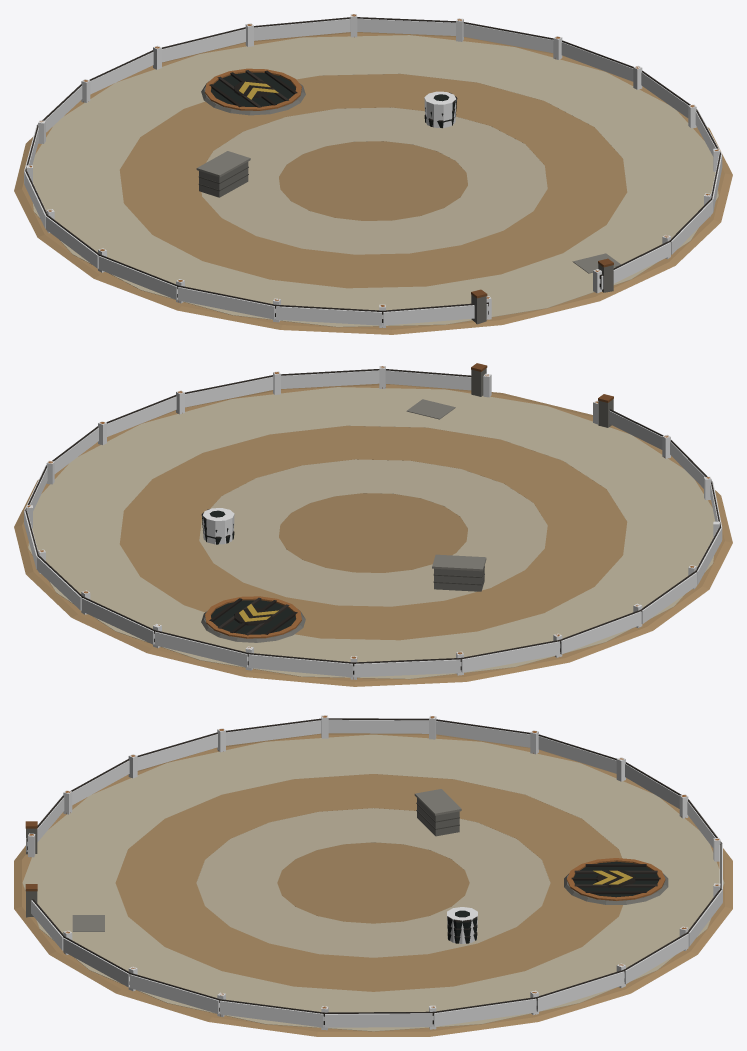
File: camp_sandbox_yard.glb
3 views of the same model, one above another, from view 1: azimuth 30°, elevation 25°; view 2: azimuth 150°, elevation 25°; view 3: azimuth 270°, elevation 25° (orthographic).
Visible parts, largest first — view 1: Body, camp_sandbox_yard-col-col; view 2: Body, camp_sandbox_yard-col-col; view 3: Body, camp_sandbox_yard-col-col.
Boxes of the visible parts, <box> form: Body: <box>14,14,732,334</box>; camp_sandbox_yard-col-col: <box>24,14,722,327</box>; Body: <box>14,363,732,686</box>; camp_sandbox_yard-col-col: <box>24,366,722,679</box>; Body: <box>14,715,732,1036</box>; camp_sandbox_yard-col-col: <box>26,715,722,1030</box>.
Size of the model in its own units: 44.45 by 2.03 by 44.45.
